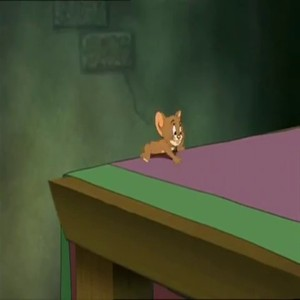Jerry: (140, 110, 186, 164)
